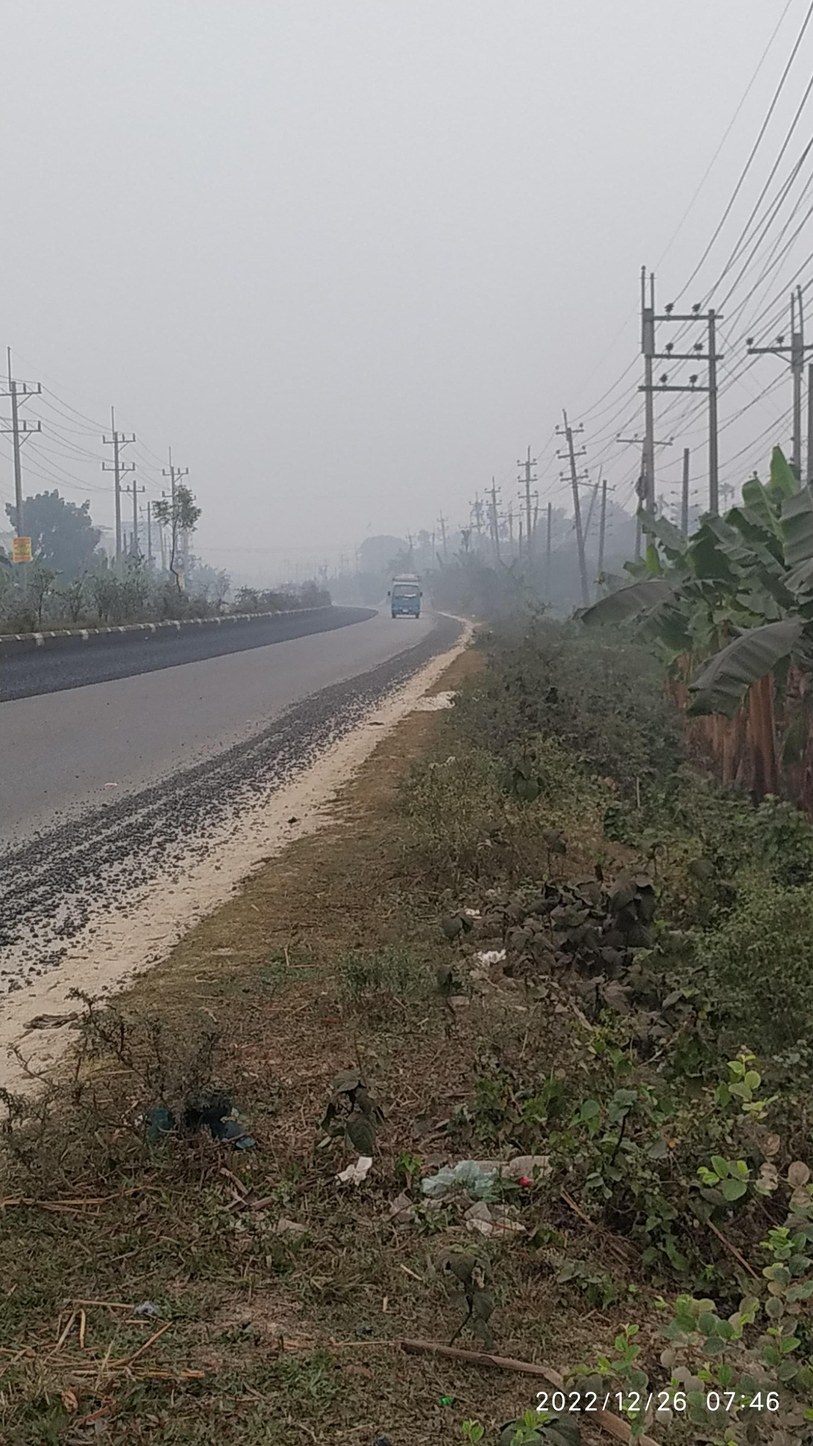Bus: (366, 560, 434, 640)
